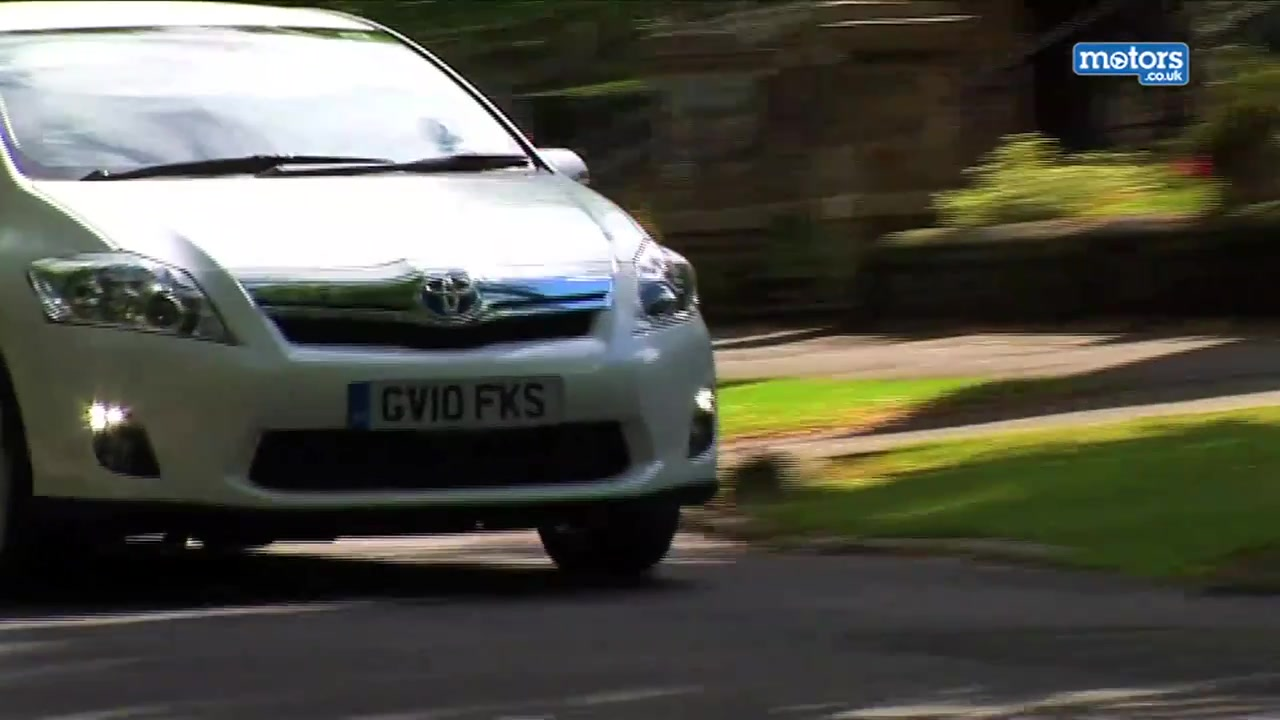car: (2, 1, 724, 594)
